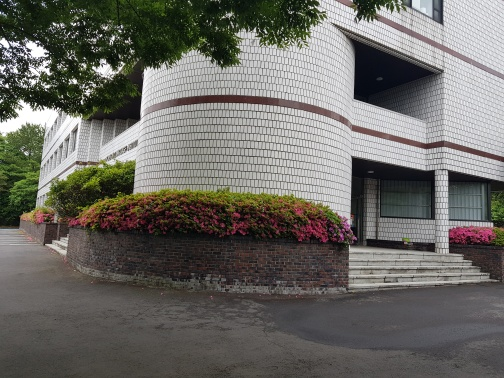Foreign Language Institute: (32, 37, 504, 280), (310, 143, 504, 288)
